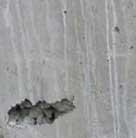Spalling: (6, 95, 77, 127)
